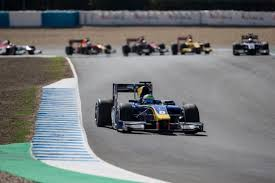race car: (94, 79, 204, 137), (121, 35, 169, 57), (64, 37, 116, 56), (230, 32, 270, 55), (171, 34, 212, 56), (1, 37, 42, 55)
